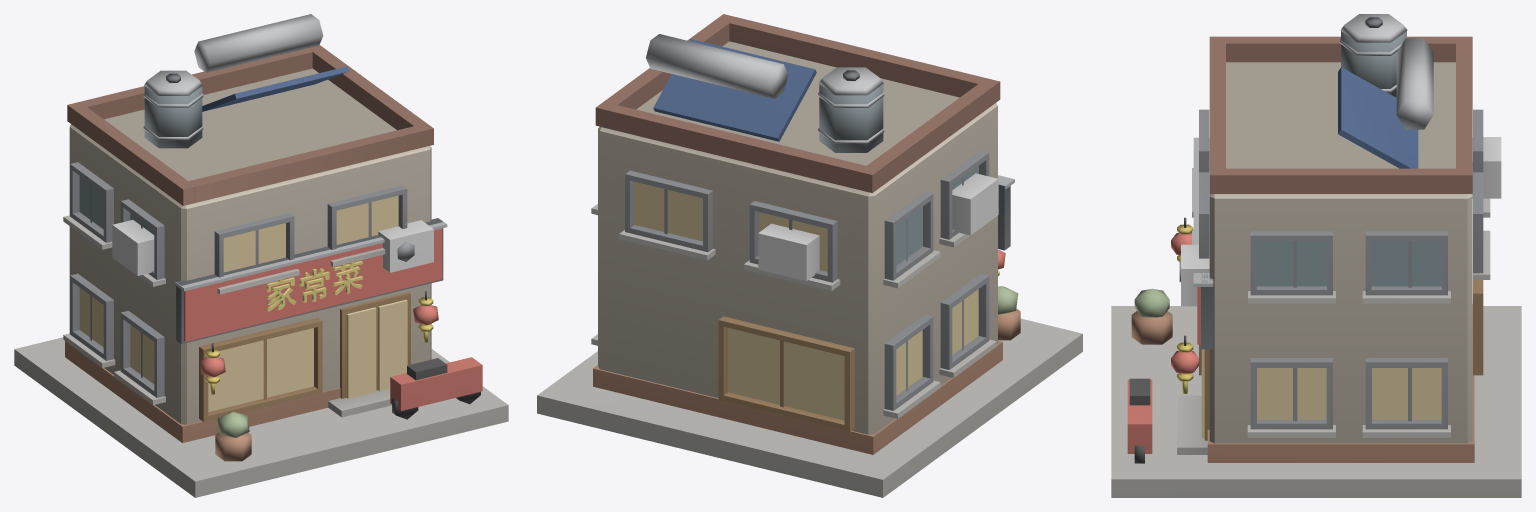
The model's file is restaurant.glb.
3 renders of one model, left to right at view 1: azimuth 30°, elevation 25°; view 2: azimuth 150°, elevation 25°; view 3: azimuth 270°, elevation 25°, orthographic. The views are drawn at different scales.
Parts seen in each view (by area): view 1: restaurant; view 2: restaurant; view 3: restaurant.
Part boxes in pixels (box(x1,y1,x2,y2)): restaurant: box(14, 14, 508, 497); restaurant: box(537, 14, 1082, 497); restaurant: box(1111, 14, 1521, 497).
Bounding box in the file's own units: 1 × 0.979 × 1.
